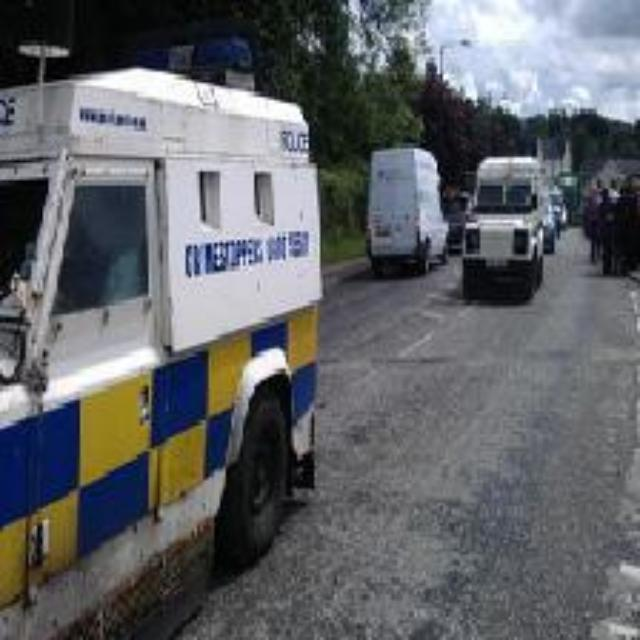emergency: (4, 36, 316, 586), (463, 154, 545, 306)
